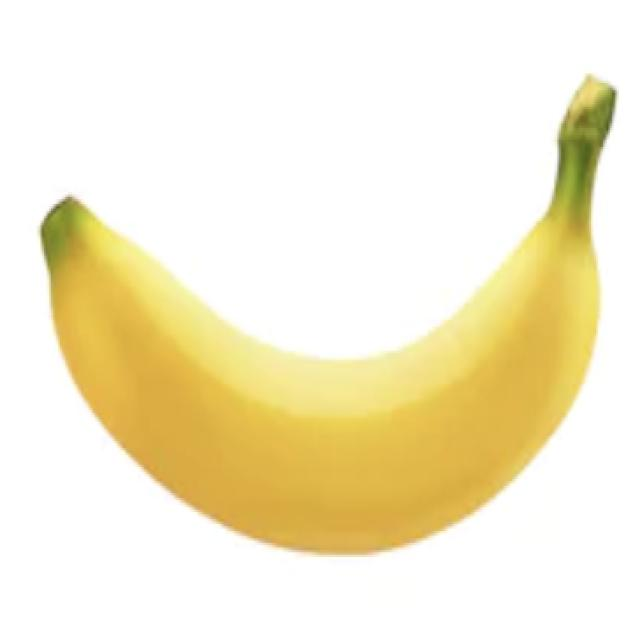fresh-banana: (37, 71, 617, 555)
